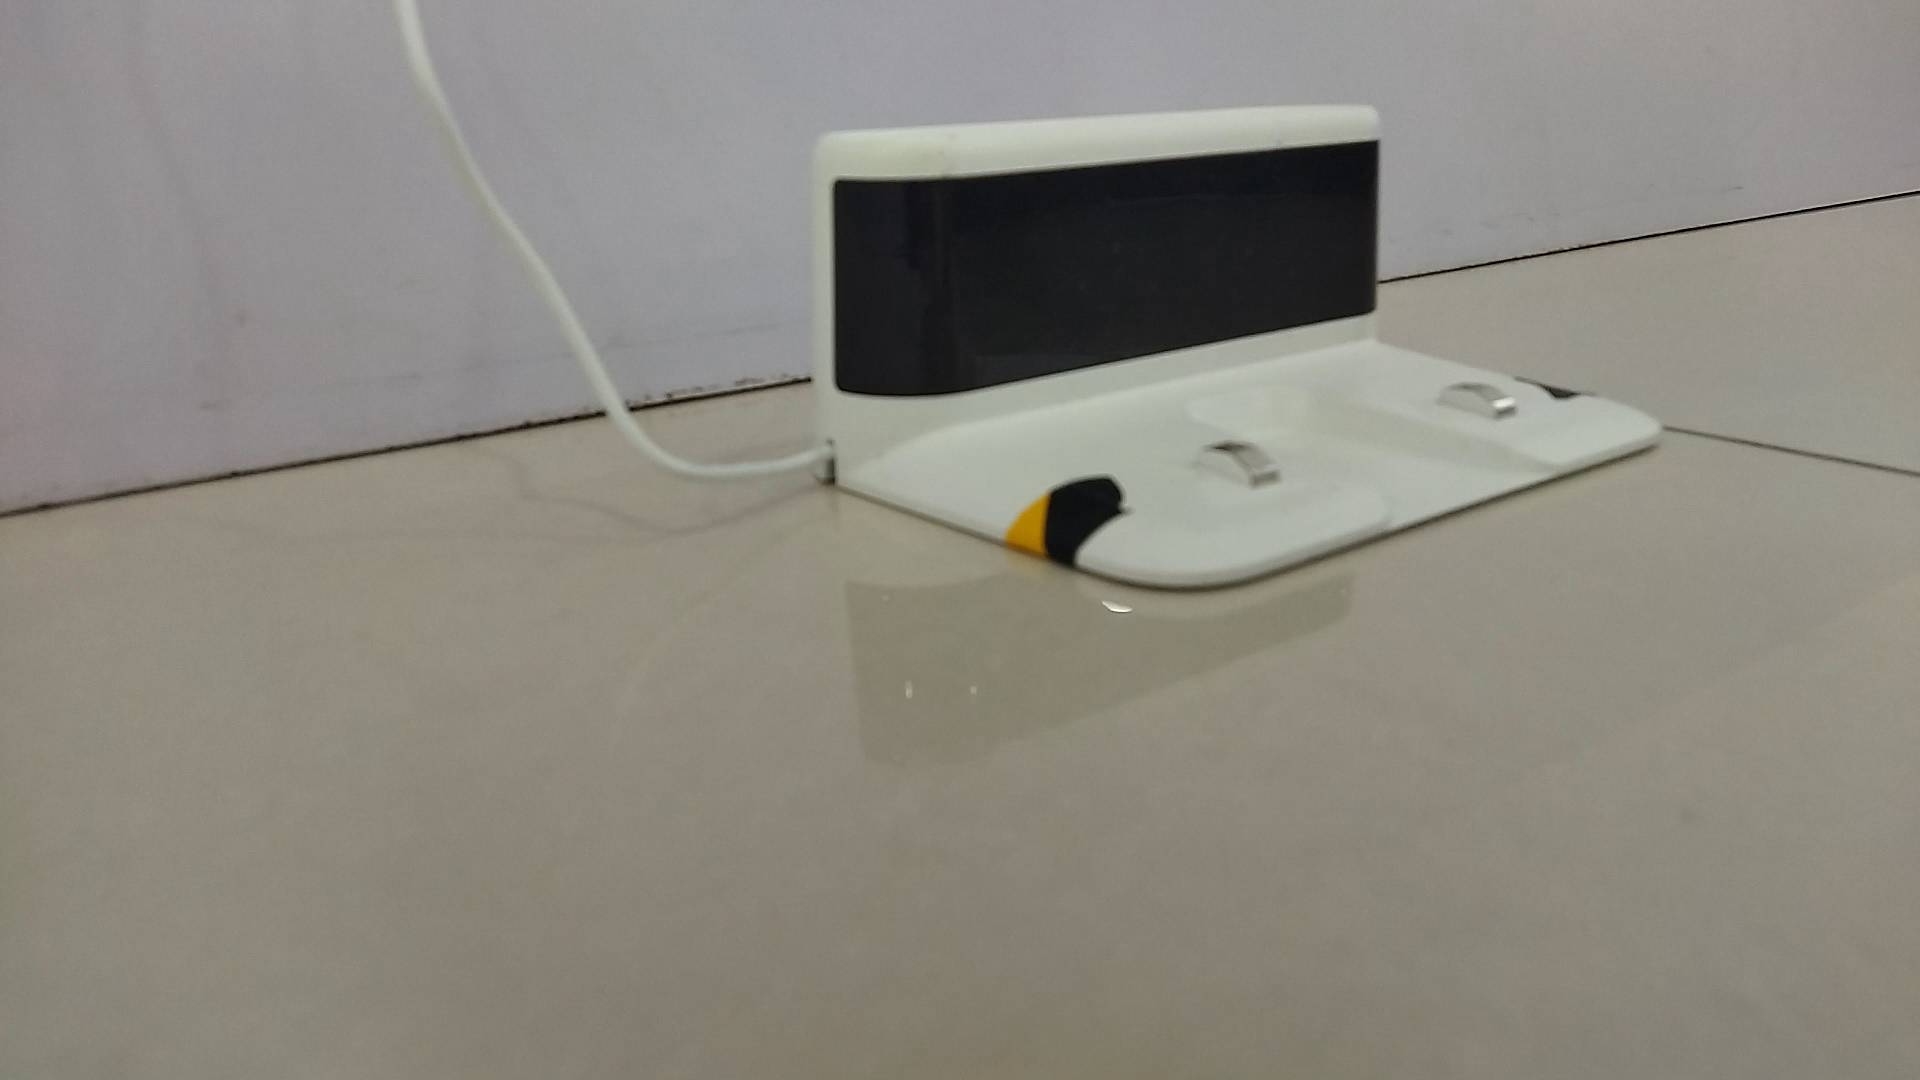recharge seat: (804, 103, 1667, 593)
